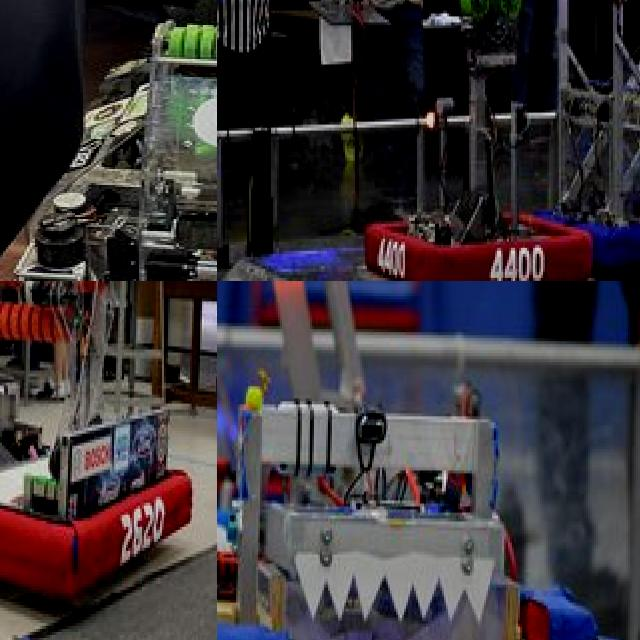FRC-Robots: (217, 350, 640, 640), (0, 281, 211, 579), (401, 0, 608, 264), (24, 0, 217, 281), (590, 0, 640, 281)
